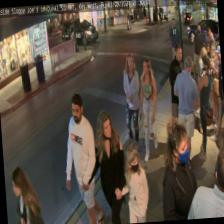person: (59, 90, 104, 224), (81, 108, 128, 224), (156, 114, 199, 220), (170, 54, 202, 172), (182, 145, 224, 218), (114, 143, 151, 223), (192, 54, 217, 160), (136, 57, 160, 162), (120, 52, 144, 152), (166, 43, 190, 142), (9, 164, 43, 224)
